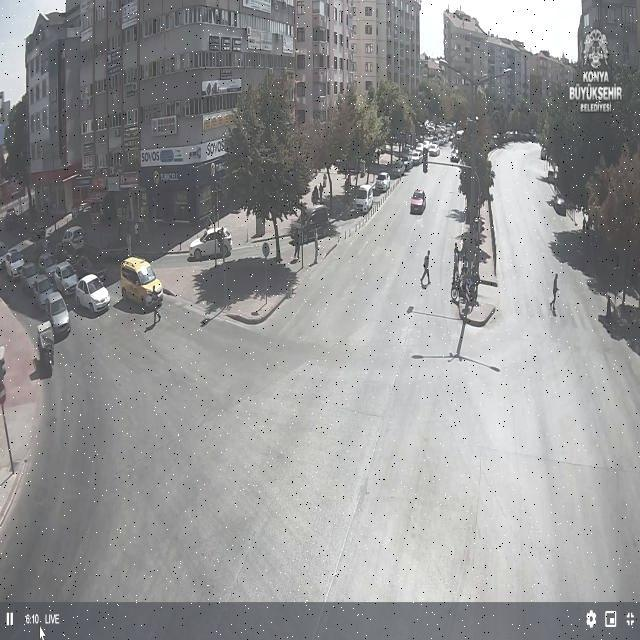Car: (71, 274, 112, 312), (189, 226, 234, 260), (42, 294, 70, 336), (27, 272, 60, 307), (50, 261, 80, 296), (19, 262, 44, 292), (1, 248, 25, 278), (354, 184, 376, 214), (62, 226, 86, 251), (410, 189, 427, 213), (386, 160, 406, 178), (374, 172, 391, 192), (406, 151, 422, 168), (428, 144, 440, 156)
Van: (121, 257, 164, 308), (292, 206, 330, 240)
